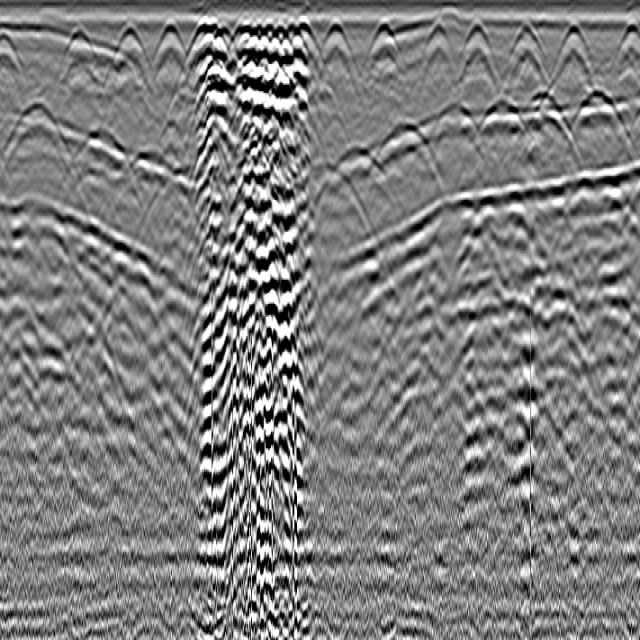hyperbola: (65, 122, 155, 214), (308, 144, 410, 224), (1, 94, 83, 177), (119, 146, 199, 228), (305, 154, 375, 234), (361, 120, 445, 184), (472, 98, 542, 155), (571, 82, 635, 144), (424, 101, 488, 154), (519, 91, 575, 147), (314, 16, 362, 77), (58, 25, 102, 76), (549, 26, 596, 71), (457, 23, 500, 71), (287, 16, 326, 68), (361, 16, 404, 62), (506, 24, 547, 72), (111, 22, 147, 66), (151, 22, 185, 62), (611, 17, 638, 58), (423, 18, 452, 52), (1, 26, 25, 66)
